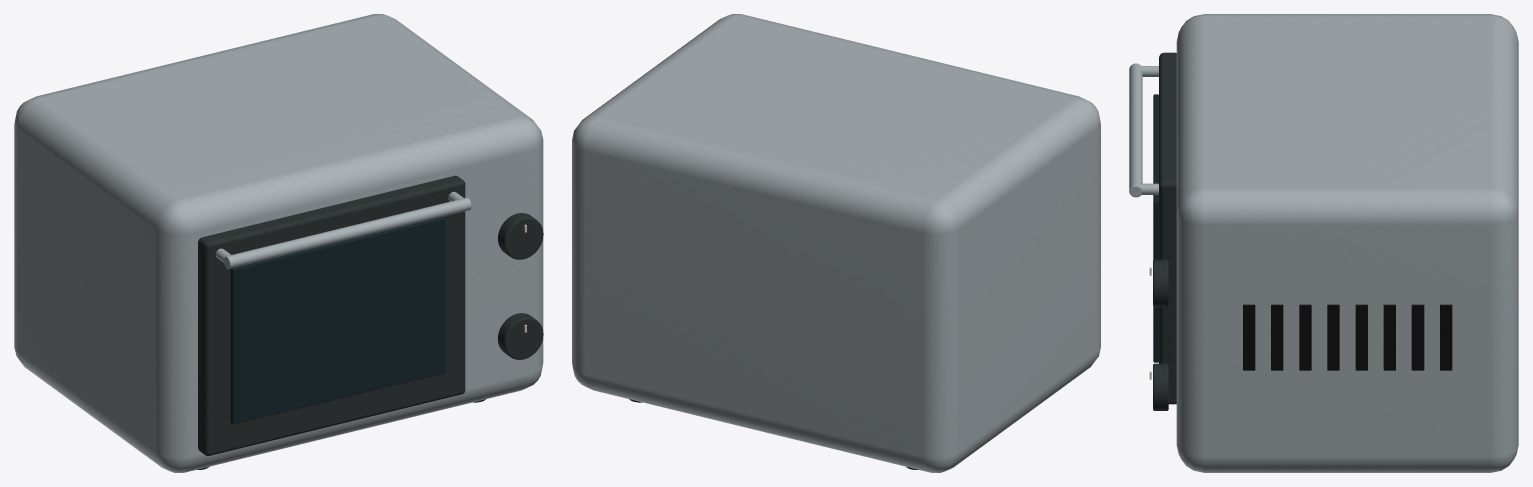
The model's file is toaster-oven.glb.
3 views of the same model, side by side, from view 1: azimuth 30°, elevation 25°; view 2: azimuth 150°, elevation 25°; view 3: azimuth 270°, elevation 25° (orthographic). The views are drawn at different scales.
Visible parts, largest first — view 1: Countertop oven metal shell, Glazed oven window, Inset oven door, Drop-door oven handle | grip, Oven temperature control.001, Oven temperature control; view 2: Countertop oven metal shell; view 3: Countertop oven metal shell, Inset oven door, Drop-door oven handle | grip, Glazed oven window, Side ventilation slot.006, Side ventilation slot.002, Side ventilation slot.003, Side ventilation slot, Side ventilation slot.001, Side ventilation slot.004, Side ventilation slot.005, Side ventilation slot.007 (+2 smaller).
Part boxes in pixels (<box>): Countertop oven metal shell: <box>14,14,543,472</box>; Glazed oven window: <box>230,217,445,424</box>; Inset oven door: <box>198,175,465,455</box>; Drop-door oven handle | grip: <box>224,197,471,268</box>; Oven temperature control.001: <box>497,213,543,259</box>; Oven temperature control: <box>498,313,543,359</box>; Countertop oven metal shell: <box>572,14,1100,472</box>; Countertop oven metal shell: <box>1176,14,1518,472</box>; Inset oven door: <box>1159,52,1176,404</box>; Drop-door oven handle | grip: <box>1129,63,1142,197</box>; Glazed oven window: <box>1153,94,1158,362</box>; Side ventilation slot.006: <box>1411,304,1424,370</box>; Side ventilation slot.002: <box>1299,304,1311,370</box>; Side ventilation slot.003: <box>1327,304,1339,370</box>; Side ventilation slot: <box>1243,304,1255,370</box>; Side ventilation slot.001: <box>1271,304,1283,370</box>; Side ventilation slot.004: <box>1355,304,1367,370</box>; Side ventilation slot.005: <box>1383,304,1395,370</box>; Side ventilation slot.007: <box>1440,304,1452,370</box>.
Bounding box in the file's own units: 0.412 × 0.287 × 0.346.
6 materials, 6 textured.
